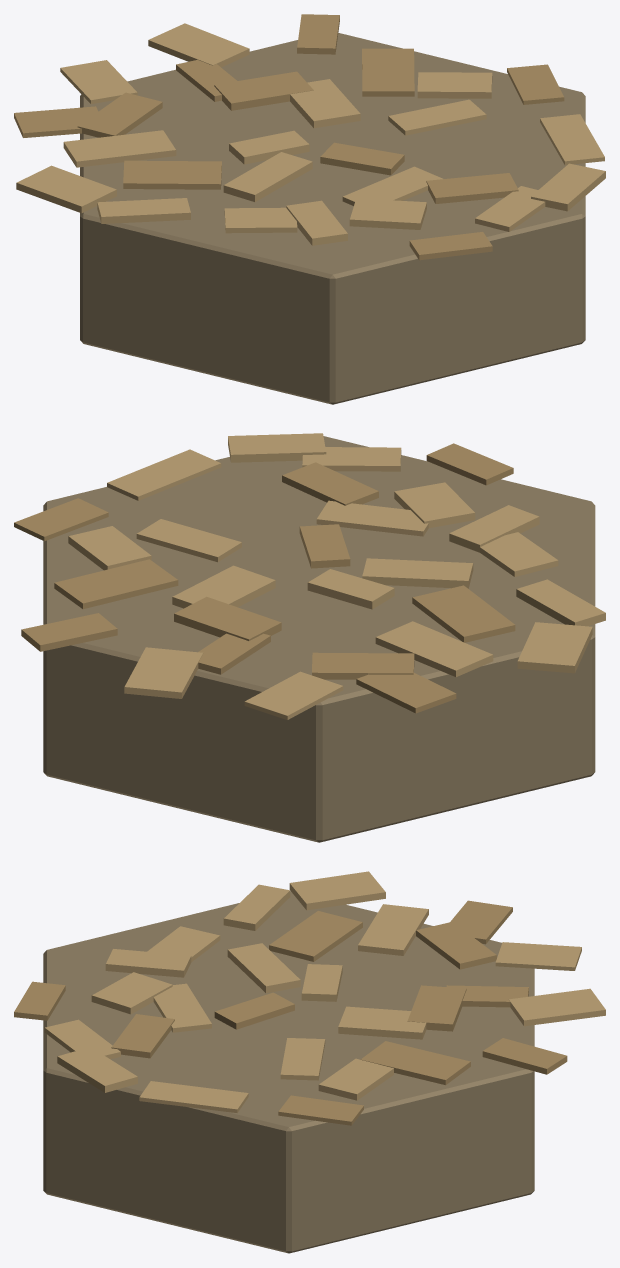
Rendered from tijolo-hex-a.glb.
The picture shows the model from 3 angles, top to bottom: view 1: azimuth 30°, elevation 25°; view 2: azimuth 150°, elevation 25°; view 3: azimuth 270°, elevation 25°; orthographic projection. The views are drawn at different scales.
Visible parts, largest first — view 1: TijoloHexA; view 2: TijoloHexA; view 3: TijoloHexA.
Part boxes in pixels (box(x1,y1,x2,y2)): TijoloHexA: box(14, 14, 605, 404); TijoloHexA: box(14, 433, 605, 842); TijoloHexA: box(14, 871, 605, 1253).
Bounding box in the file's own units: 2.08 × 0.5218 × 2.09.
